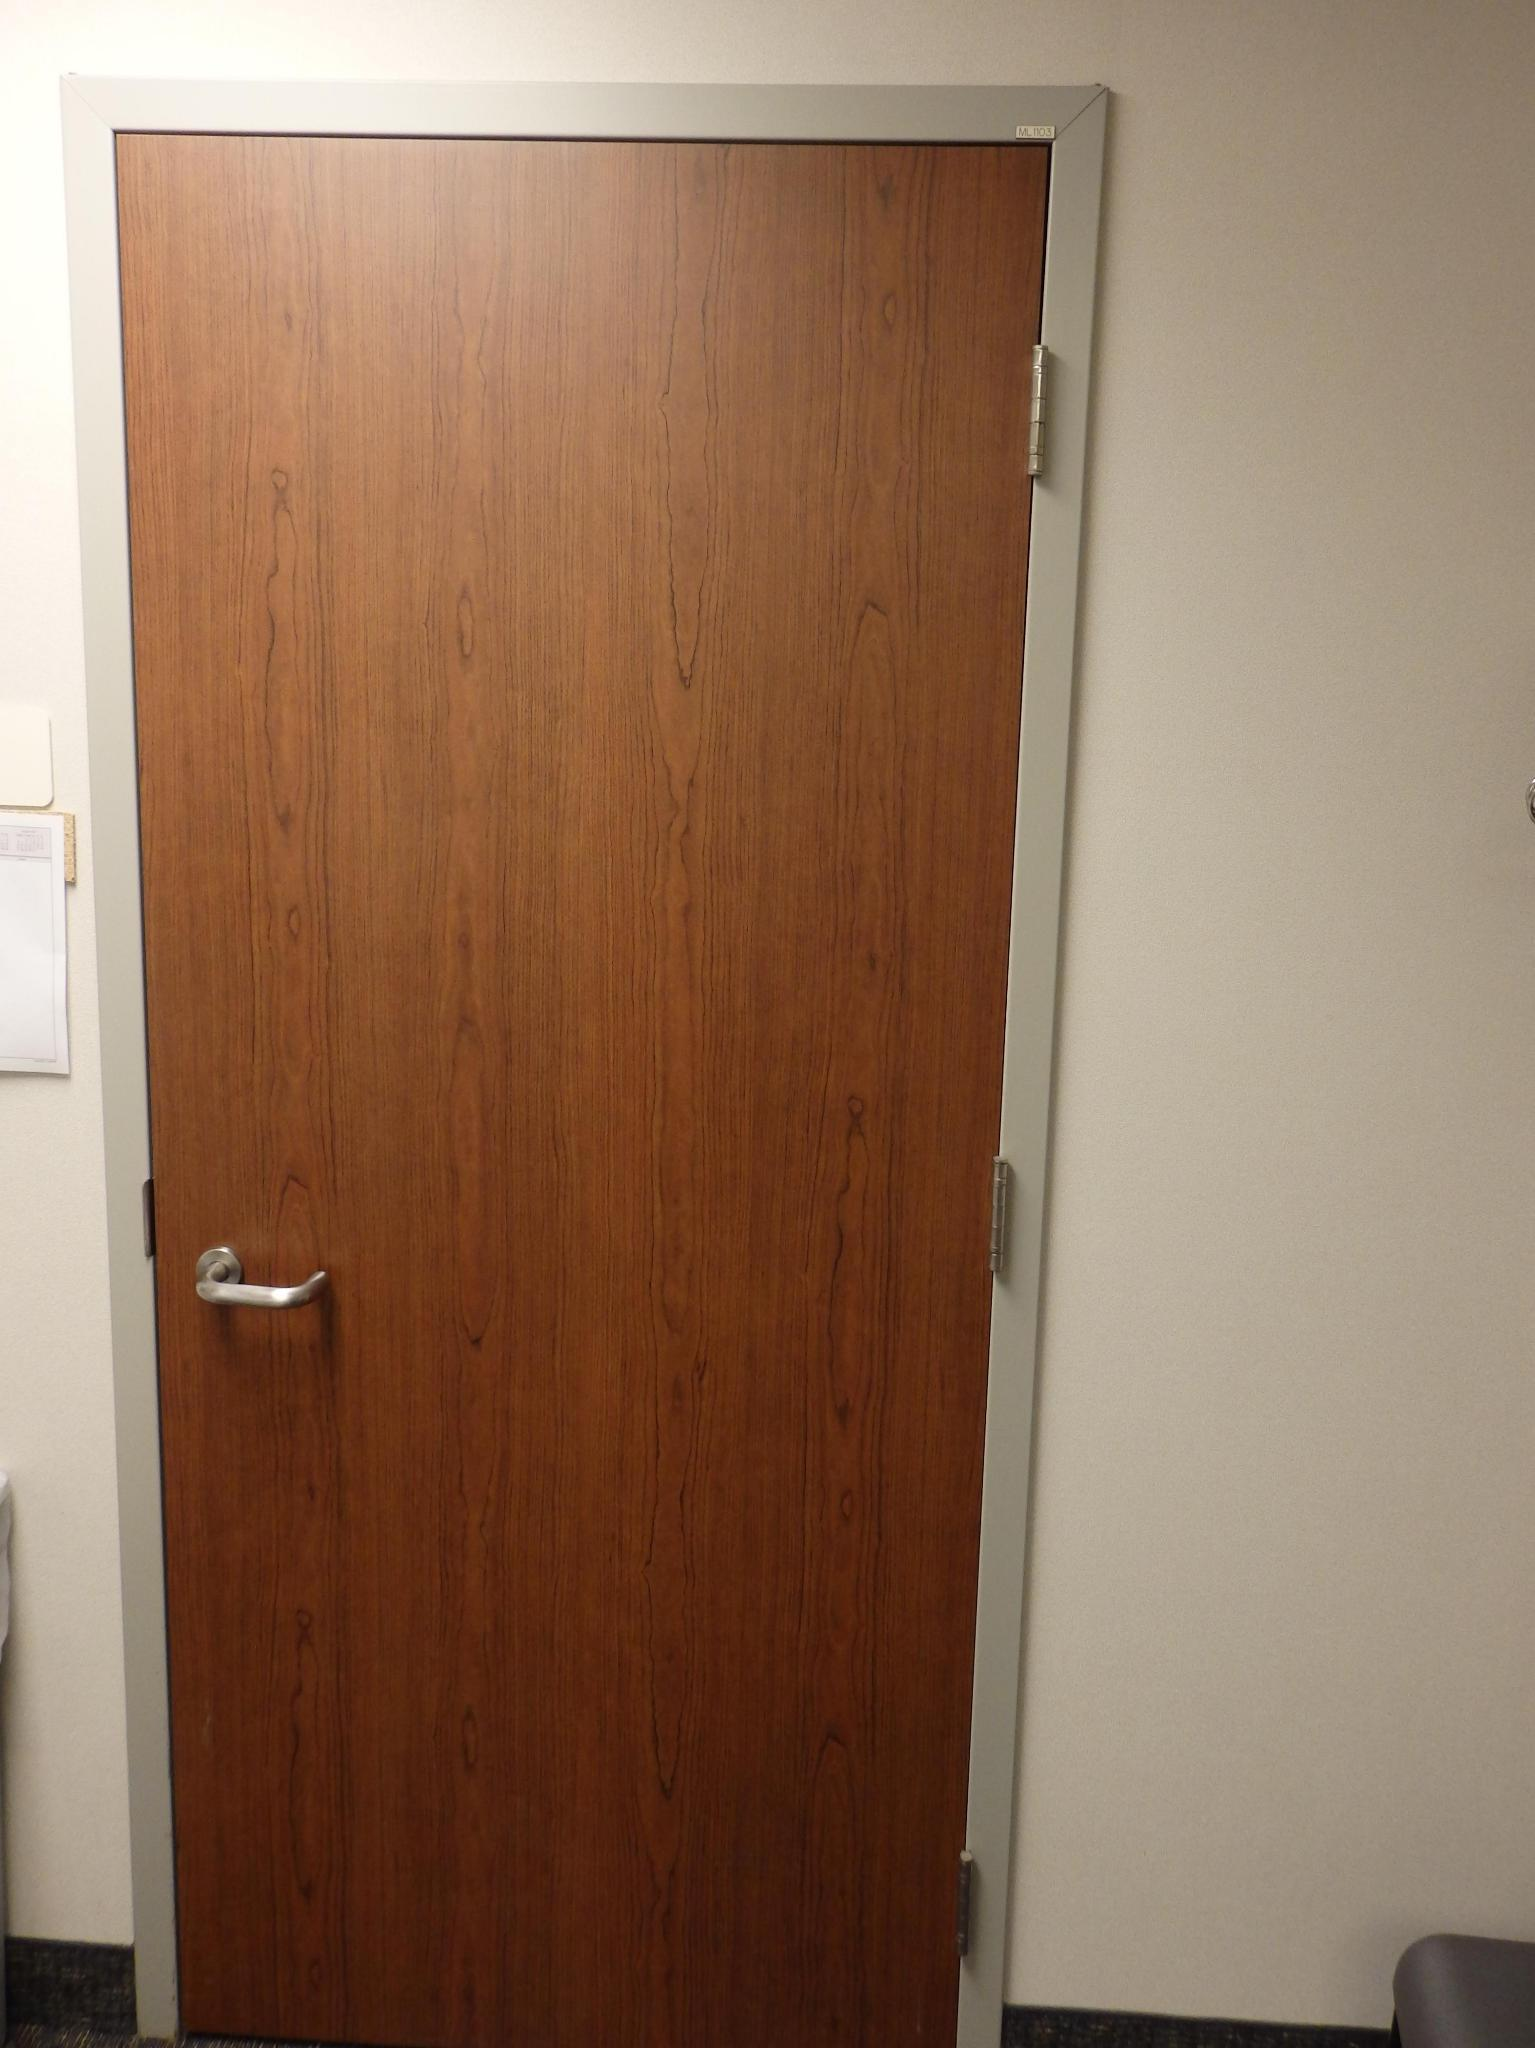door: (142, 160, 966, 2038)
handle: (190, 1237, 337, 1338)
